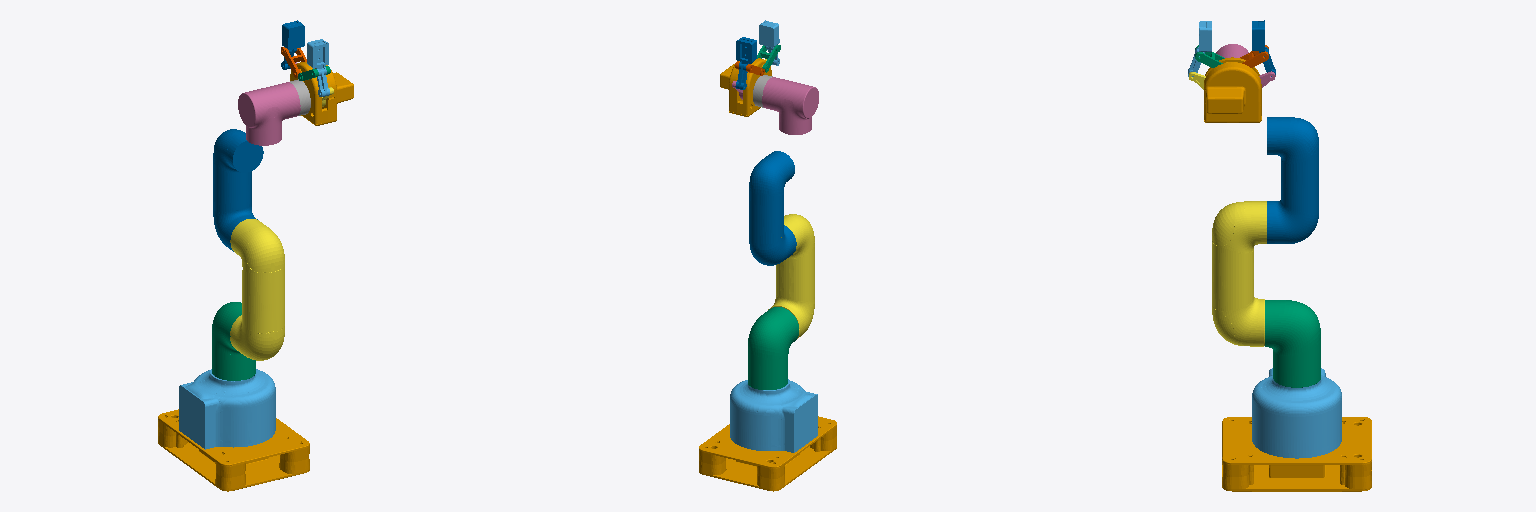
robot.urdf — firefighter:
<?xml version='1.0' encoding='utf-8'?>
<robot name="firefighter">
  <link name="g_base">
    <!-- placeholder inertial added by normalize_urdf.py - replace with CAD values -->
    <inertial>
      <origin xyz="0 0 0" rpy="0 0 0" />
      <mass value="0.1" />
      <inertia ixx="3.600e-05" ixy="0" ixz="0" iyy="3.600e-05" iyz="0" izz="3.600e-05" />
    </inertial>
    <visual>
      <geometry>
        <mesh filename="../../meshes/flat/G_base.stl" />
      </geometry>
      <origin xyz="0.0 0 -0.03" rpy="0 0 1.5708" />
    </visual>
    <collision>
      <geometry>
        <mesh filename="../../meshes/flat/G_base.stl" />
      </geometry>
      <origin xyz="0.0 0 -0.03" rpy="0 0 1.5708" />
    </collision>
  </link>
  <link name="joint1">
    <!-- placeholder inertial added by normalize_urdf.py - replace with CAD values -->
    <inertial>
      <origin xyz="0 0 0" rpy="0 0 0" />
      <mass value="0.1" />
      <inertia ixx="3.600e-05" ixy="0" ixz="0" iyy="3.600e-05" iyz="0" izz="3.600e-05" />
    </inertial>
    <visual>
      <geometry>
        <!--- 0.0 0 -0.04  1.5708 3.14159-->
        <mesh filename="../../meshes/joint1.dae" />
      </geometry>
      <origin xyz="0.0 0 0 " rpy=" 0 0 -1.5708" />
    </visual>
    <collision>
      <geometry>
        <!--- 0.0 0 -0.04  1.5708 3.14159-->
        <mesh filename="../../meshes/joint1.dae" />
      </geometry>
      <origin xyz="0.0 0 0 " rpy=" 0 0 -1.5708" />
    </collision>
  </link>
  <link name="joint2">
    <!-- placeholder inertial added by normalize_urdf.py - replace with CAD values -->
    <inertial>
      <origin xyz="0 0 0" rpy="0 0 0" />
      <mass value="0.1" />
      <inertia ixx="3.600e-05" ixy="0" ixz="0" iyy="3.600e-05" iyz="0" izz="3.600e-05" />
    </inertial>
    <visual>
      <geometry>
        <mesh filename="../../meshes/joint2.dae" />
      </geometry>
      <origin xyz="0.0 0 -0.06096 " rpy=" 0 0 -1.5708" />
    </visual>
    <collision>
      <geometry>
        <mesh filename="../../meshes/joint2.dae" />
      </geometry>
      <origin xyz="0.0 0 -0.06096 " rpy=" 0 0 -1.5708" />
    </collision>
  </link>
  <link name="joint3">
    <!-- placeholder inertial added by normalize_urdf.py - replace with CAD values -->
    <inertial>
      <origin xyz="0 0 0" rpy="0 0 0" />
      <mass value="0.1" />
      <inertia ixx="3.600e-05" ixy="0" ixz="0" iyy="3.600e-05" iyz="0" izz="3.600e-05" />
    </inertial>
    <visual>
      <geometry>
        <mesh filename="../../meshes/joint3.dae" />
      </geometry>
      <origin xyz="0.0 0 0.03256 " rpy=" 0 -1.5708 0" />
    </visual>
    <collision>
      <geometry>
        <mesh filename="../../meshes/joint3.dae" />
      </geometry>
      <origin xyz="0.0 0 0.03256 " rpy=" 0 -1.5708 0" />
    </collision>
  </link>
  <link name="joint4">
    <!-- placeholder inertial added by normalize_urdf.py - replace with CAD values -->
    <inertial>
      <origin xyz="0 0 0" rpy="0 0 0" />
      <mass value="0.1" />
      <inertia ixx="3.600e-05" ixy="0" ixz="0" iyy="3.600e-05" iyz="0" izz="3.600e-05" />
    </inertial>
    <visual>
      <geometry>
        <!--- 0.0 0 -0.04 -->
        <mesh filename="../../meshes/joint4.dae" />
      </geometry>
      <origin xyz="0.0 0 0.03056 " rpy=" 0 -1.5708 0" />
    </visual>
    <collision>
      <geometry>
        <!--- 0.0 0 -0.04 -->
        <mesh filename="../../meshes/joint4.dae" />
      </geometry>
      <origin xyz="0.0 0 0.03056 " rpy=" 0 -1.5708 0" />
    </collision>
  </link>
  <link name="joint5">
    <!-- placeholder inertial added by normalize_urdf.py - replace with CAD values -->
    <inertial>
      <origin xyz="0 0 0" rpy="0 0 0" />
      <mass value="0.1" />
      <inertia ixx="3.600e-05" ixy="0" ixz="0" iyy="3.600e-05" iyz="0" izz="3.600e-05" />
    </inertial>
    <visual>
      <geometry>
        <!--- 0.0 0 -0.04 -->
        <mesh filename="../../meshes/joint5.dae" />
      </geometry>
      <origin xyz="0.0 0 -0.03356 " rpy=" -1.5708 0 0" />
    </visual>
    <collision>
      <geometry>
        <!--- 0.0 0 -0.04 -->
        <mesh filename="../../meshes/joint5.dae" />
      </geometry>
      <origin xyz="0.0 0 -0.03356 " rpy=" -1.5708 0 0" />
    </collision>
  </link>
  <link name="joint6">
    <!-- placeholder inertial added by normalize_urdf.py - replace with CAD values -->
    <inertial>
      <origin xyz="0 0 0" rpy="0 0 0" />
      <mass value="0.1" />
      <inertia ixx="3.600e-05" ixy="0" ixz="0" iyy="3.600e-05" iyz="0" izz="3.600e-05" />
    </inertial>
    <visual>
      <geometry>
        <!--- 0.0 0 -0.04 -->
        <mesh filename="../../meshes/joint6.dae" />
      </geometry>
      <origin xyz="0 0.00 -0.038 " rpy=" 0 0 0" />
    </visual>
    <collision>
      <geometry>
        <!--- 0.0 0 -0.04 -->
        <mesh filename="../../meshes/joint6.dae" />
      </geometry>
      <origin xyz="0 0.00 -0.038 " rpy=" 0 0 0" />
    </collision>
  </link>
  <link name="joint6_flange">
    <!-- placeholder inertial added by normalize_urdf.py - replace with CAD values -->
    <inertial>
      <origin xyz="0 0 0" rpy="0 0 0" />
      <mass value="0.1" />
      <inertia ixx="3.600e-05" ixy="0" ixz="0" iyy="3.600e-05" iyz="0" izz="3.600e-05" />
    </inertial>
    <visual>
      <geometry>
        <!--- 0.0 0 -0.04 -->
        <mesh filename="../../meshes/joint7.dae" />
      </geometry>
      <origin xyz="0.0 0 -0.012 " rpy=" 0 0 0" />
    </visual>
    <collision>
      <geometry>
        <!--- 0.0 0 -0.04 -->
        <mesh filename="../../meshes/joint7.dae" />
      </geometry>
      <origin xyz="0.0 0 -0.012 " rpy=" 0 0 0" />
    </collision>
  </link>
  <link name="gripper_base">
    <!-- placeholder inertial added by normalize_urdf.py - replace with CAD values -->
    <inertial>
      <origin xyz="0 0 0" rpy="0 0 0" />
      <mass value="0.1" />
      <inertia ixx="3.600e-05" ixy="0" ixz="0" iyy="3.600e-05" iyz="0" izz="3.600e-05" />
    </inertial>
    <visual>
      <geometry>
        <mesh filename="../../meshes/flat/gripper_base.stl" />
      </geometry>
      <origin xyz="0.0 0.0077 -0.012" rpy=" 0 0 0" />
    </visual>
    <collision>
      <geometry>
        <mesh filename="../../meshes/flat/gripper_base.stl" />
      </geometry>
      <origin xyz="0.0 0.0077 -0.012 " rpy=" 0 0 0" />
    </collision>
  </link>
  <link name="gripper_left1">
    <!-- placeholder inertial added by normalize_urdf.py - replace with CAD values -->
    <inertial>
      <origin xyz="0 0 0" rpy="0 0 0" />
      <mass value="0.1" />
      <inertia ixx="3.600e-05" ixy="0" ixz="0" iyy="3.600e-05" iyz="0" izz="3.600e-05" />
    </inertial>
    <visual>
      <geometry>
        <!--- 0.0 0 -0.04 -->
        <mesh filename="../../meshes/flat/gripper_left1.stl" />
      </geometry>
      <origin xyz="0.039 -0.0133 -0.012 " rpy=" 0 0 0" />
      <!-- <origin xyz = "0.0 0 -0.012 " rpy = " 0 0 0"/> -->
    </visual>
    <!-- collision origin aligned with visual (was copy-pasted from the mirrored link) -->
    <collision>
      <geometry>
        <mesh filename="../../meshes/flat/gripper_left1.stl" />
      </geometry>
      <origin xyz="0.039 -0.0133 -0.012 " rpy=" 0 0 0" />
    </collision>
  </link>
  <link name="gripper_left2">
    <!-- placeholder inertial added by normalize_urdf.py - replace with CAD values -->
    <inertial>
      <origin xyz="0 0 0" rpy="0 0 0" />
      <mass value="0.1" />
      <inertia ixx="3.600e-05" ixy="0" ixz="0" iyy="3.600e-05" iyz="0" izz="3.600e-05" />
    </inertial>
    <visual>
      <geometry>
        <mesh filename="../../meshes/flat/gripper_left2.stl" />
      </geometry>
      <origin xyz="0.005 -0.0195 -0.012 " rpy=" 0 0 0" />
    </visual>
    <!-- collision origin aligned with visual (was copy-pasted from the mirrored link) -->
    <collision>
      <geometry>
        <mesh filename="../../meshes/flat/gripper_left2.stl" />
      </geometry>
      <origin xyz="0.005 -0.0195 -0.012 " rpy=" 0 0 0" />
    </collision>
  </link>
  <link name="gripper_left3">
    <!-- placeholder inertial added by normalize_urdf.py - replace with CAD values -->
    <inertial>
      <origin xyz="0 0 0" rpy="0 0 0" />
      <mass value="0.1" />
      <inertia ixx="3.600e-05" ixy="0" ixz="0" iyy="3.600e-05" iyz="0" izz="3.600e-05" />
    </inertial>
    <visual>
      <geometry>
        <mesh filename="../../meshes/flat/gripper_left3.stl" />
      </geometry>
      <origin xyz="0.012 0.0025 -0.012 " rpy=" 0 0 0" />
      <!-- <origin xyz = "0.0 0 0 " rpy = " 0 0 0"/> -->
    </visual>
    <collision>
      <geometry>
        <mesh filename="../../meshes/flat/gripper_left3.stl" />
      </geometry>
      <origin xyz="0.012 0.0025 -0.012" rpy=" 0 0 0" />
    </collision>
  </link>
  <link name="gripper_right1">
    <!-- placeholder inertial added by normalize_urdf.py - replace with CAD values -->
    <inertial>
      <origin xyz="0 0 0" rpy="0 0 0" />
      <mass value="0.1" />
      <inertia ixx="3.600e-05" ixy="0" ixz="0" iyy="3.600e-05" iyz="0" izz="3.600e-05" />
    </inertial>
    <visual>
      <geometry>
        <mesh filename="../../meshes/flat/gripper_right1.stl" />
      </geometry>
      <origin xyz="-0.039 -0.0133 -0.012 " rpy=" 0 0 0" />
    </visual>
    <collision>
      <geometry>
        <mesh filename="../../meshes/flat/gripper_right1.stl" />
      </geometry>
      <origin xyz="-0.039 -0.0133 -0.012 " rpy=" 0 0 0" />
    </collision>
  </link>
  <link name="gripper_right2">
    <!-- placeholder inertial added by normalize_urdf.py - replace with CAD values -->
    <inertial>
      <origin xyz="0 0 0" rpy="0 0 0" />
      <mass value="0.1" />
      <inertia ixx="3.600e-05" ixy="0" ixz="0" iyy="3.600e-05" iyz="0" izz="3.600e-05" />
    </inertial>
    <visual>
      <geometry>
        <mesh filename="../../meshes/flat/gripper_right2.stl" />
      </geometry>
      <origin xyz="-0.005 -0.0195 -0.012 " rpy=" 0 0 0" />
    </visual>
    <collision>
      <geometry>
        <mesh filename="../../meshes/flat/gripper_right2.stl" />
      </geometry>
      <origin xyz="-0.005 -0.0195 -0.012 " rpy=" 0 0 0" />
    </collision>
  </link>
  <link name="gripper_right3">
    <!-- placeholder inertial added by normalize_urdf.py - replace with CAD values -->
    <inertial>
      <origin xyz="0 0 0" rpy="0 0 0" />
      <mass value="0.1" />
      <inertia ixx="3.600e-05" ixy="0" ixz="0" iyy="3.600e-05" iyz="0" izz="3.600e-05" />
    </inertial>
    <visual>
      <geometry>
        <mesh filename="../../meshes/flat/gripper_right3.stl" />
      </geometry>
      <origin xyz="-0.012 0.0025 -0.012 " rpy=" 0 0 0" />
    </visual>
    <collision>
      <geometry>
        <mesh filename="../../meshes/flat/gripper_right3.stl" />
      </geometry>
      <origin xyz="-0.012 0.0025 -0.012" rpy=" 0 0 0" />
    </collision>
  </link>
  <joint name="g_base_to_joint1" type="fixed">
    <axis xyz="0 0 0" />
    <limit effort="1000.0" lower="-3.14" upper="3.14159" velocity="0" />
    <parent link="g_base" />
    <child link="joint1" />
    <origin xyz="0 0 0" rpy="0 0 0" />
  </joint>
  <joint name="joint2_to_joint1" type="revolute">
    <axis xyz="0 0 1" />
    <limit effort="1000.0" lower="-2.879793" upper="2.879793" velocity="2" />
    <parent link="joint1" />
    <child link="joint2" />
    <origin xyz="0 0 0.13156" rpy="0 0 0" />
  </joint>
  <joint name="joint3_to_joint2" type="revolute">
    <axis xyz="0 0 1" />
    <limit effort="1000.0" lower="-2.879793" upper="2.879793" velocity="2" />
    <parent link="joint2" />
    <child link="joint3" />
    <origin xyz="0 0  0" rpy="0 1.5708 -1.5708" />
  </joint>
  <joint name="joint4_to_joint3" type="revolute">
    <axis xyz=" 0 0 1" />
    <limit effort="1000.0" lower="-2.879793" upper="2.879793" velocity="2" />
    <parent link="joint3" />
    <child link="joint4" />
    <origin xyz="  -0.1104 0 0   " rpy="0 0 0" />
  </joint>
  <joint name="joint5_to_joint4" type="revolute">
    <axis xyz=" 0 0 1" />
    <limit effort="1000.0" lower="-2.879793" upper="2.879793" velocity="2" />
    <parent link="joint4" />
    <child link="joint5" />
    <origin xyz="-0.096 0 0.06462" rpy="0 0 -1.5708" />
  </joint>
  <joint name="joint6_to_joint5" type="revolute">
    <axis xyz="0 0 1" />
    <limit effort="1000.0" lower="-2.879793" upper="2.879793" velocity="2" />
    <parent link="joint5" />
    <child link="joint6" />
    <origin xyz="0 -0.07318 0" rpy="1.5708 -1.5708 0" />
  </joint>
  <joint name="joint6output_to_joint6" type="revolute">
    <axis xyz="0 0 1" />
    <limit effort="1000.0" lower="-3.05" upper="3.05" velocity="2" />
    <parent link="joint6" />
    <child link="joint6_flange" />
    <origin xyz="0 0.0456 0" rpy="-1.5708 0 0" />
  </joint>
  <joint name="joint6output_to_gripper_base" type="fixed">
    <!-- <axis xyz="0 0 1"/>
    <limit effort = "1000.0" lower = "-3.14" upper = "3.14159" velocity = "0"/> -->
    <parent link="joint6_flange" />
    <child link="gripper_base" />
    <origin xyz="0 0 0.0139" rpy="0 0 3.14159" />
  </joint>
  <joint name="gripper_controller" type="revolute">
    <axis xyz="0 0 1" />
    <limit effort="1000.0" lower="-0.7" upper="0.15" velocity="2" />
    <parent link="gripper_base" />
    <child link="gripper_left3" />
    <origin xyz="-0.012 0.005 0" rpy="0 0 0" />
  </joint>
  <joint name="gripper_base_to_gripper_left2" type="revolute">
    <axis xyz="0 0 1" />
    <limit effort="1000.0" lower="-0.8" upper="0.5" velocity="2" />
    <parent link="gripper_base" />
    <child link="gripper_left2" />
    <origin xyz="-0.005 0.027 0" rpy="0 0 0" />
    <mimic joint="gripper_controller" multiplier="1.0" offset="0" />
  </joint>
  <joint name="gripper_left3_to_gripper_left1" type="revolute">
    <axis xyz="0 0 1" />
    <limit effort="1000.0" lower="-0.5" upper="0.5" velocity="2" />
    <parent link="gripper_left3" />
    <child link="gripper_left1" />
    <origin xyz="-0.027 0.016 0" rpy="0 0 0" />
    <mimic joint="gripper_controller" multiplier="-1.0" offset="0" />
  </joint>
  <joint name="gripper_base_to_gripper_right3" type="revolute">
    <axis xyz="0 0 1" />
    <limit effort="1000.0" lower="-0.15" upper="0.7" velocity="2" />
    <parent link="gripper_base" />
    <child link="gripper_right3" />
    <origin xyz="0.012 0.005 0" rpy="0 0 0" />
    <mimic joint="gripper_controller" multiplier="-1.0" offset="0" />
  </joint>
  <joint name="gripper_base_to_gripper_right2" type="revolute">
    <axis xyz="0 0 1" />
    <limit effort="1000.0" lower="-0.5" upper="0.8" velocity="2" />
    <parent link="gripper_base" />
    <child link="gripper_right2" />
    <origin xyz="0.005 0.027 0" rpy="0 0 0" />
    <mimic joint="gripper_controller" multiplier="-1.0" offset="0" />
  </joint>
  <joint name="gripper_right3_to_gripper_right1" type="revolute">
    <axis xyz="0 0 1" />
    <limit effort="1000.0" lower="-0.5" upper="0.5" velocity="2" />
    <parent link="gripper_right3" />
    <child link="gripper_right1" />
    <origin xyz="0.027 0.016 0" rpy="0 0 0" />
    <mimic joint="gripper_controller" multiplier="1.0" offset="0" />
  </joint>
</robot>

--- What the picture shows (computed from the rendered views, not written in the file) ---
Views: 3 orthographic renders of the robot side by side, from view 1: azimuth 30°, elevation 25°; view 2: azimuth 150°, elevation 25°; view 3: azimuth 270°, elevation 25°.
Model firefighter with 15 links and 14 joints (12 revolute, 2 fixed), rooted at g_base, posed every joint at zero.
Links seen in each view (by area): view 1: joint1, joint3, g_base, joint4, joint6, joint2, gripper_base, gripper_left1, gripper_right1; view 2: joint1, g_base, joint4, joint2, joint3, joint6, gripper_base, gripper_right1, gripper_left1; view 3: g_base, joint3, joint1, joint4, joint2, gripper_base, gripper_left1, gripper_right1.
Boxes of the visible links, x1,y1,x2,y2 form: joint1: (179, 369, 275, 449); joint3: (230, 219, 284, 360); g_base: (158, 409, 309, 491); joint4: (213, 129, 263, 251); joint6: (238, 82, 300, 145); joint2: (212, 302, 255, 380); gripper_base: (290, 62, 353, 125); gripper_left1: (307, 39, 329, 96); gripper_right1: (281, 20, 304, 69); joint1: (730, 379, 817, 452); g_base: (699, 416, 836, 491); joint4: (749, 151, 796, 265); joint2: (748, 307, 798, 389); joint3: (768, 214, 814, 338); joint6: (762, 77, 818, 134); gripper_base: (720, 58, 771, 116); gripper_right1: (735, 37, 756, 89); gripper_left1: (759, 20, 779, 65); g_base: (1222, 417, 1371, 491); joint3: (1212, 201, 1266, 346); joint1: (1252, 368, 1341, 458); joint4: (1267, 117, 1318, 243); joint2: (1265, 300, 1320, 387); gripper_base: (1204, 57, 1261, 122); gripper_left1: (1188, 21, 1211, 76); gripper_right1: (1252, 20, 1275, 76).
Bounding box of the posed robot: 0.1522 × 0.1843 × 0.5157 m (x, y, z).
Meshes: 15 distinct files referenced, 14 mesh visuals loaded (8 binary STL, 6 Collada DAE); not drawn: 1 (reference not matched to a file when rendering).
